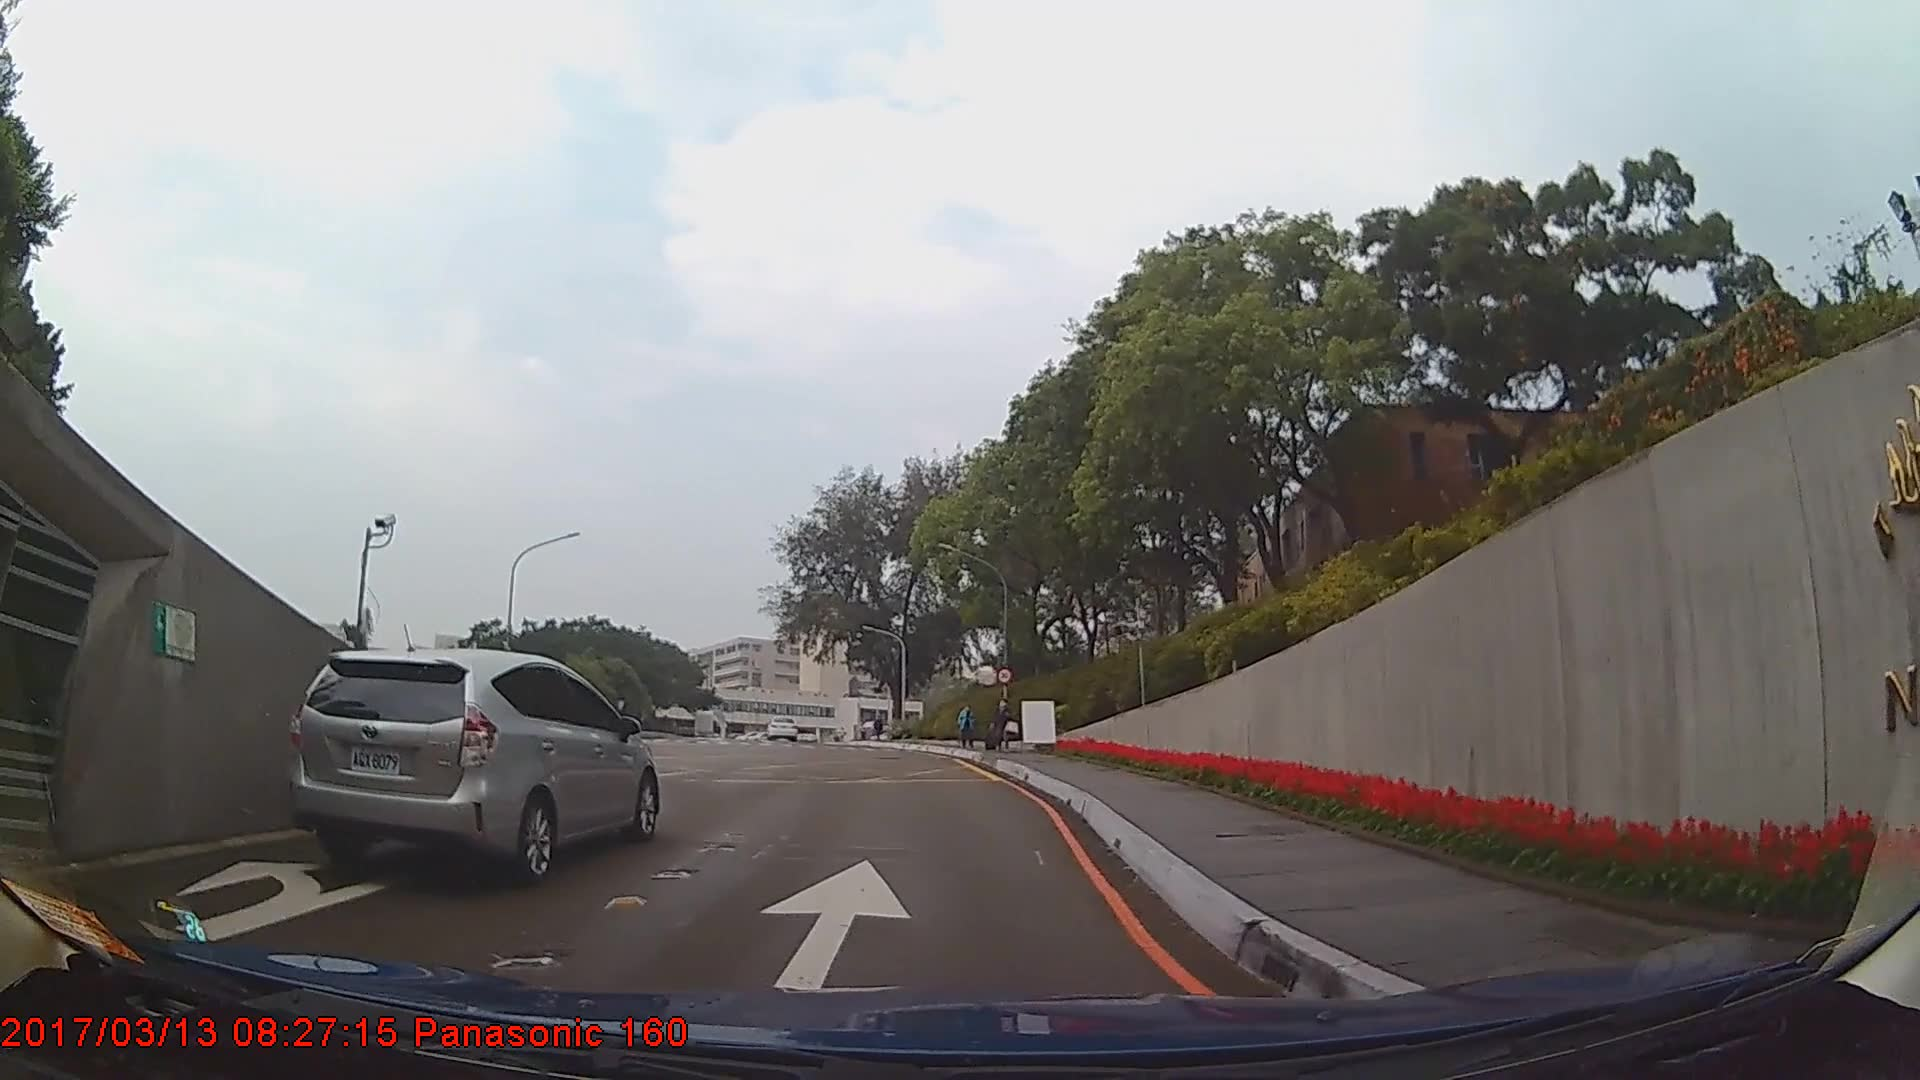pedestrian: (986, 696, 1022, 751), (956, 706, 977, 753)
vehicle: (282, 646, 658, 888), (763, 713, 797, 740)
